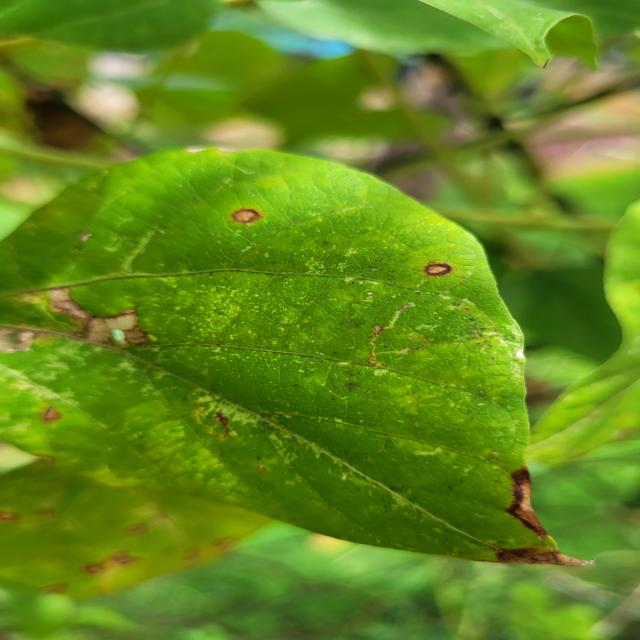Dolicos bean_cercospora leaf spot: (0, 151, 610, 574)
